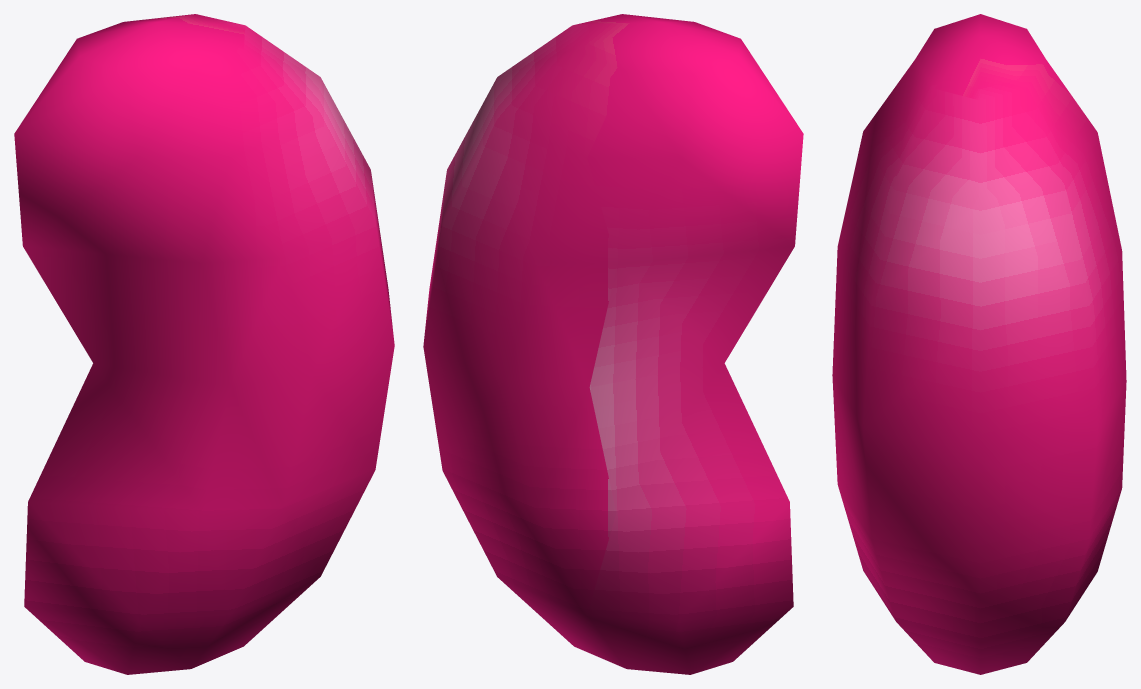
File: bean4.obj
3 renders of one model, left to right at view 1: azimuth 30°, elevation 25°; view 2: azimuth 150°, elevation 25°; view 3: azimuth 270°, elevation 25°, orthographic. The views are drawn at different scales.
Visible parts, largest first — view 1: bean:Mesh; view 2: bean:Mesh; view 3: bean:Mesh.
Part boxes in pixels (left/top/right/bottom): bean:Mesh: left=14, top=14, right=394, bottom=674; bean:Mesh: left=423, top=14, right=803, bottom=674; bean:Mesh: left=832, top=14, right=1126, bottom=674.
Bounding box in the file's own units: 20.6 × 34.01 × 14.58.
